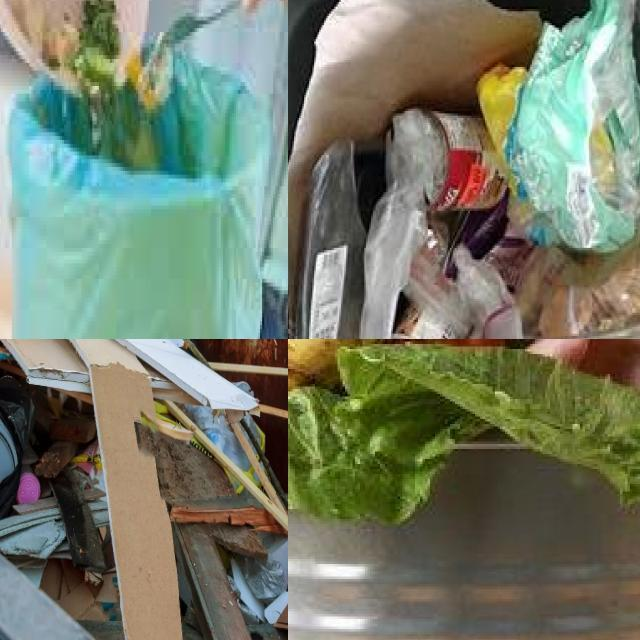Garbage: (288, 0, 640, 339), (0, 339, 288, 640), (288, 339, 640, 523)
Plastic_Bag: (478, 0, 640, 251), (296, 138, 365, 339), (517, 236, 640, 339), (361, 184, 426, 339), (453, 245, 525, 339), (308, 245, 348, 339)
Plastic_Container: (392, 304, 455, 339)
tin_box: (386, 108, 506, 211)
